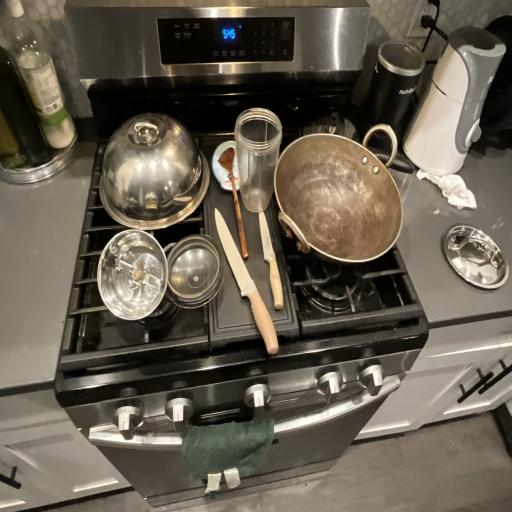Pan: (258, 120, 406, 284)
Stove: (65, 18, 438, 410)
knife: (200, 206, 294, 360), (249, 186, 292, 303)
